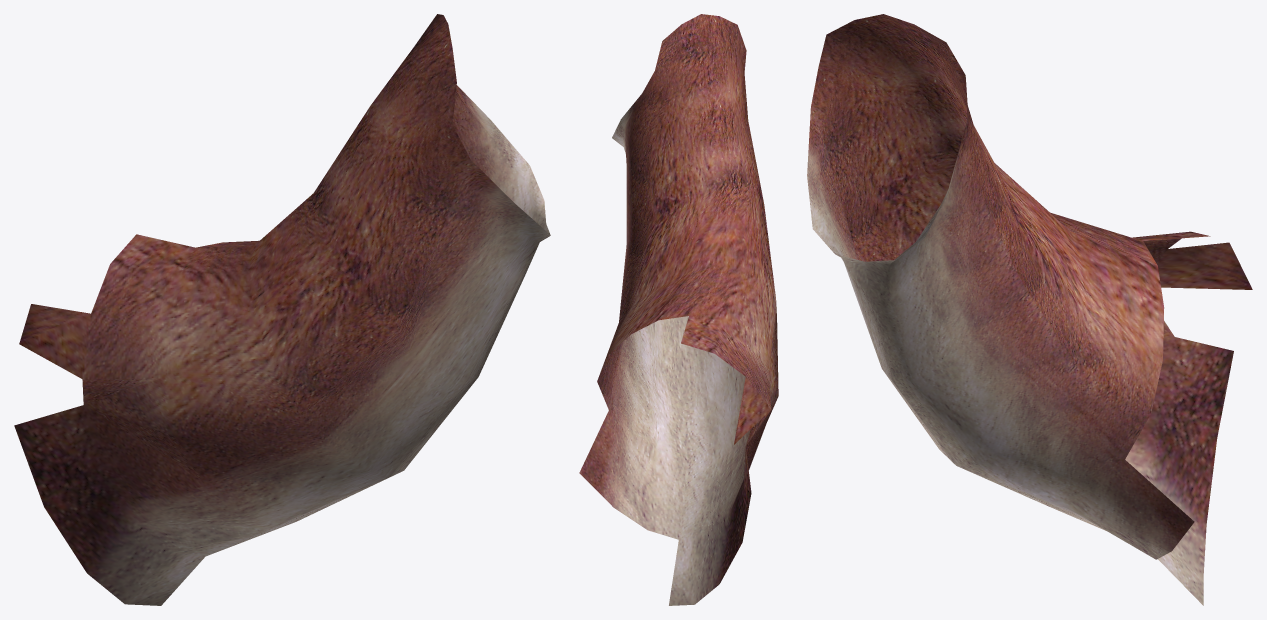
Rendered from CiervoBebeCuello.obj.
3 views of the same model, side by side, from view 1: azimuth 30°, elevation 25°; view 2: azimuth 150°, elevation 25°; view 3: azimuth 270°, elevation 25° (orthographic). The views are drawn at different scales.
Visible parts, largest first — view 1: Body_body.006; view 2: Body_body.006; view 3: Body_body.006.
Part boxes in pixels (left/top/right/bottom): Body_body.006: left=14, top=14, right=550, bottom=605; Body_body.006: left=579, top=14, right=778, bottom=605; Body_body.006: left=807, top=14, right=1252, bottom=605.
Size of the model in its own units: 0.8296 by 1.5 by 0.9367.
